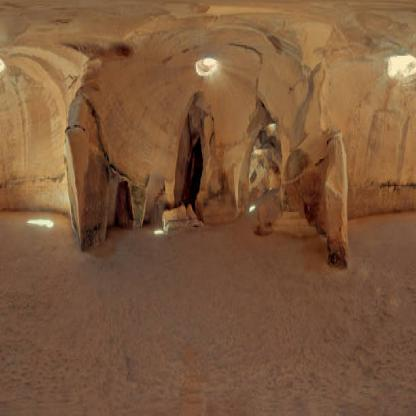Sedimentary_Sandstone: (12, 30, 118, 224), (318, 105, 355, 272)
